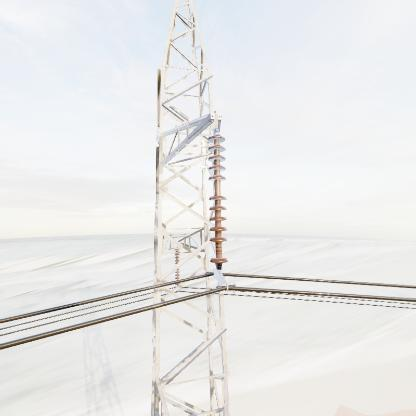insulator: (205, 128, 232, 273)
